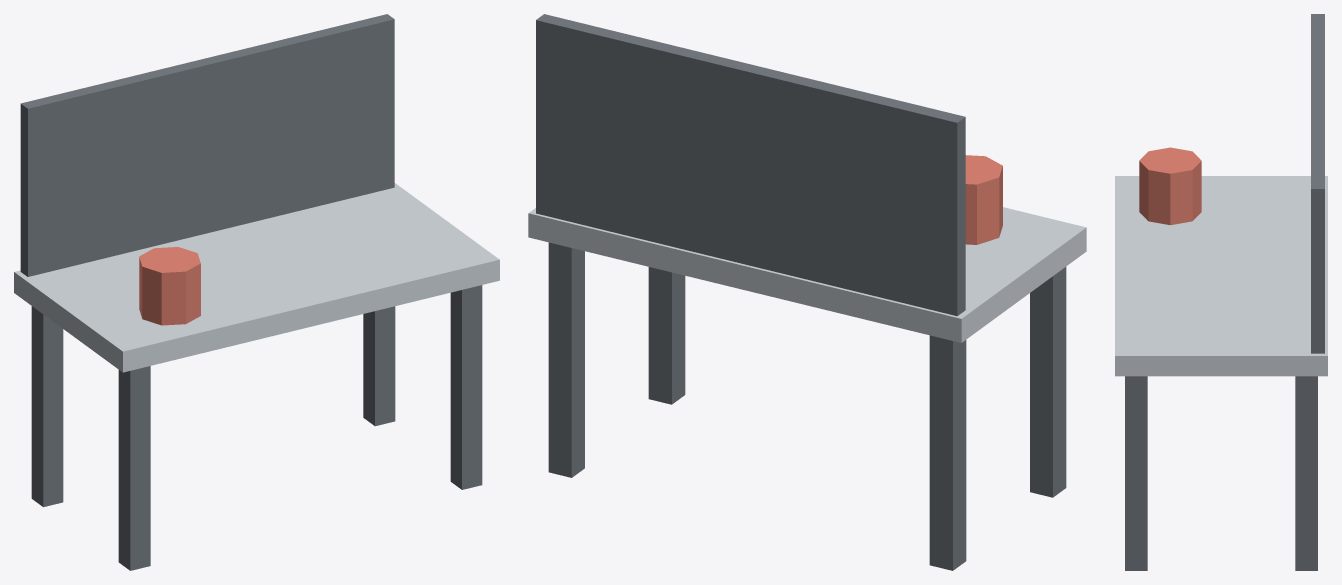
File: SM_WorkbenchT3.fbx
3 renders of one model, left to right at view 1: azimuth 30°, elevation 25°; view 2: azimuth 150°, elevation 25°; view 3: azimuth 270°, elevation 25°, orthographic. The views are drawn at different scales.
Visible parts, largest first — view 1: SM_WorkbenchT3; view 2: SM_WorkbenchT3; view 3: SM_WorkbenchT3.
Boxes of the visible parts, x1,y1,x2,y2 form: SM_WorkbenchT3: (14,14,499,570); SM_WorkbenchT3: (528,14,1086,570); SM_WorkbenchT3: (1115,14,1327,570).
Bounding box in the file's own units: 15000 × 7500 × 15000.
